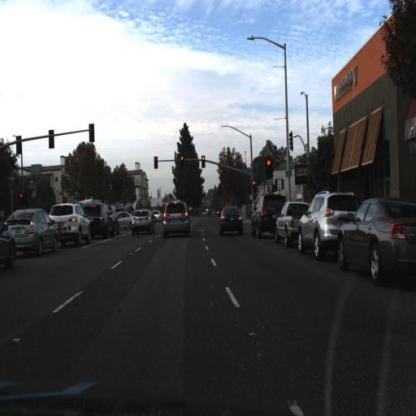car: (336, 196, 416, 280), (297, 186, 357, 258), (4, 204, 61, 262), (48, 201, 97, 252), (273, 198, 312, 248), (250, 192, 287, 238), (87, 202, 119, 240), (162, 198, 190, 240), (219, 202, 246, 240), (131, 206, 156, 237)
trafficLight-Red: (267, 157, 275, 182), (178, 153, 187, 172), (154, 156, 162, 174), (200, 154, 208, 172), (252, 177, 259, 196)
